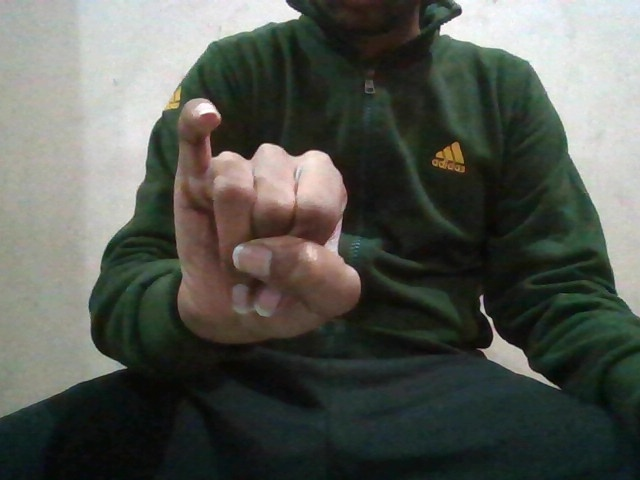J: (167, 98, 366, 335)
